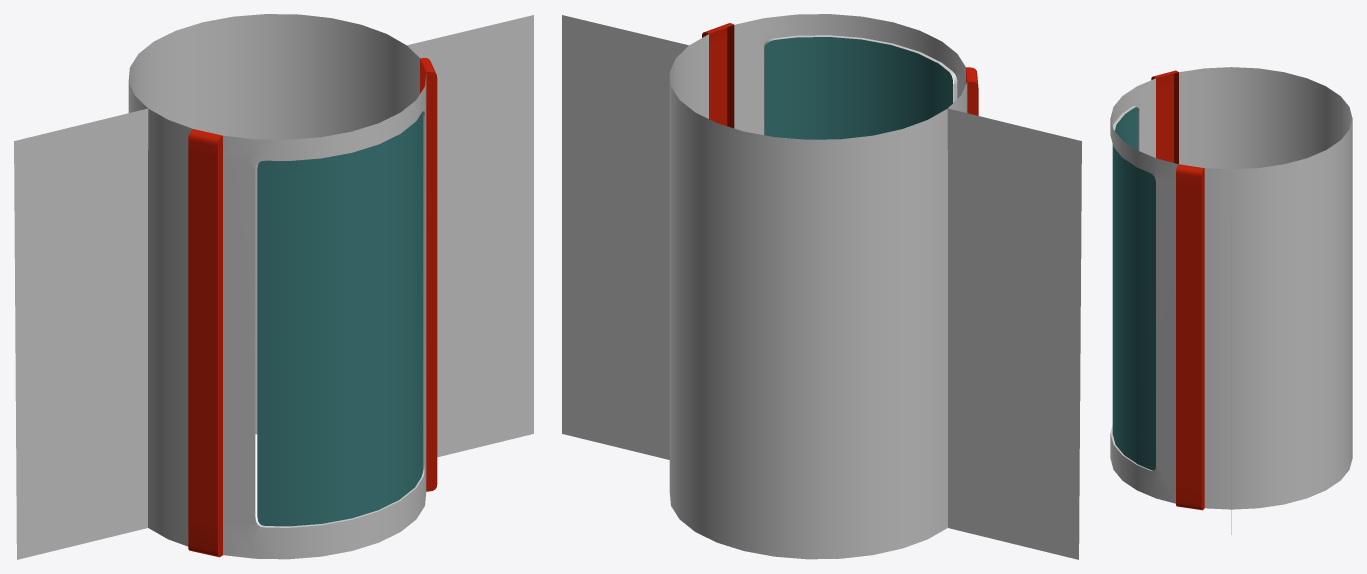
Rendered from S_assete_tube_robot_3.fbx.
3 views of the same model, side by side, from view 1: azimuth 30°, elevation 25°; view 2: azimuth 150°, elevation 25°; view 3: azimuth 270°, elevation 25° (orthographic). The views are drawn at different scales.
Visible parts, largest first — view 1: Plane007; view 2: Plane007; view 3: Plane007.
Boxes of the visible parts, x1=… form: Plane007: x1=14, y1=14, x2=533, y2=559; Plane007: x1=562, y1=14, x2=1081, y2=559; Plane007: x1=1110, y1=67, x2=1352, y2=534.
Bounding box in the file's own units: 402 × 310 × 200.
